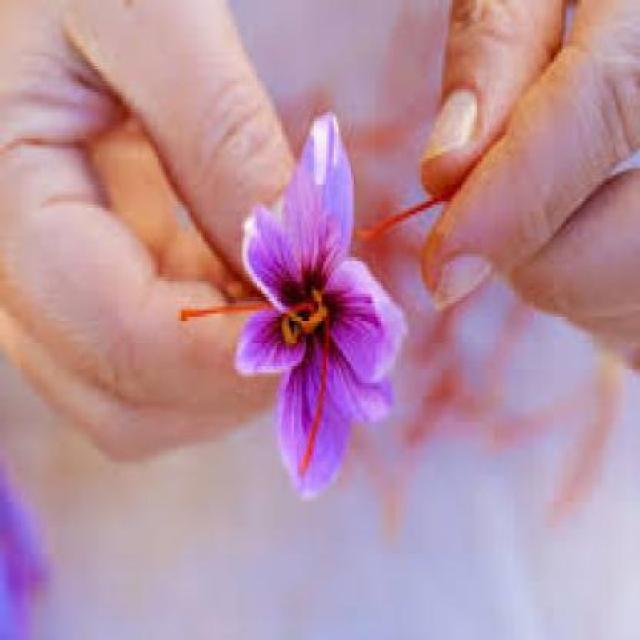saffron open: (236, 114, 405, 496)
